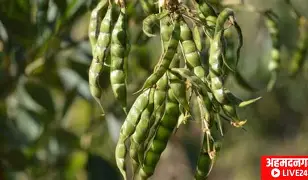crops: (79, 0, 299, 177), (0, 0, 107, 179)
